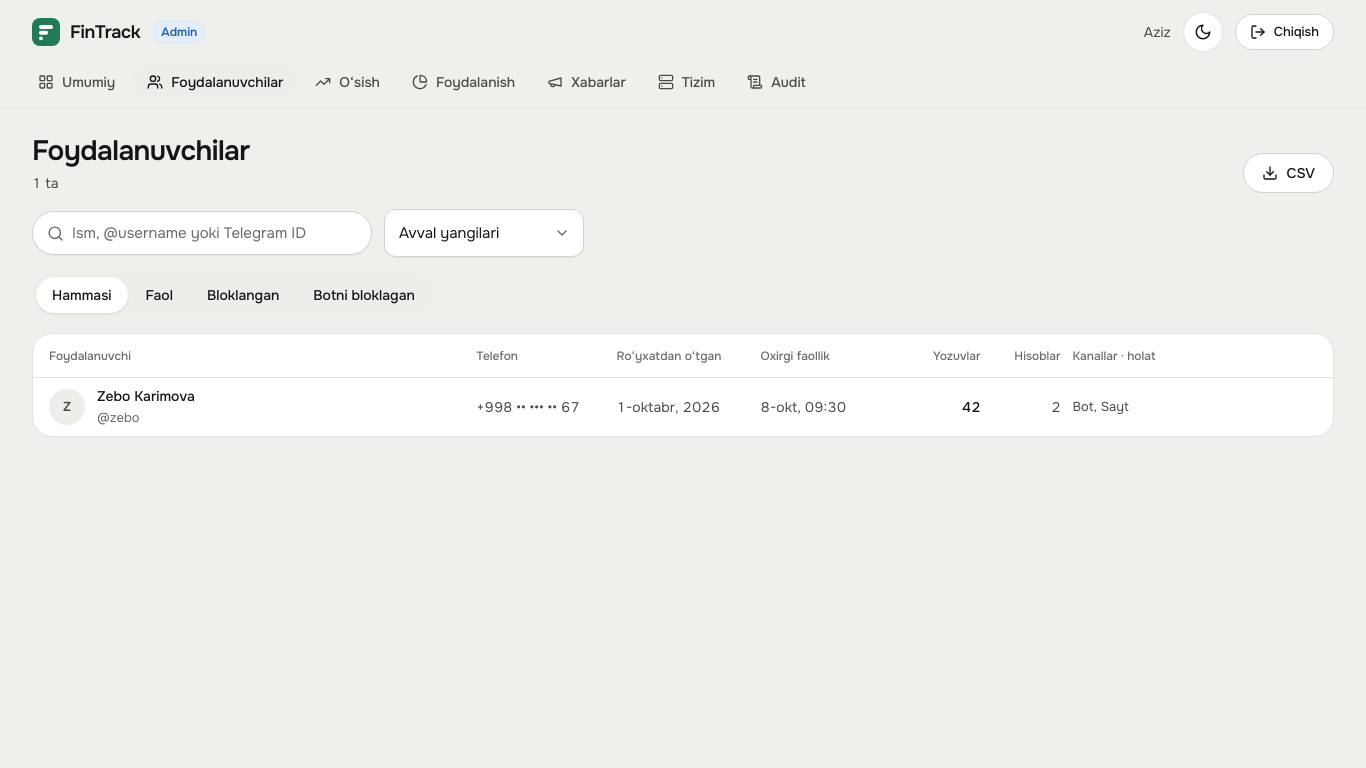
Test: Admin panel pages › users: a card opened while the search is still settling stays open
Check: the table is shown, box [33,334,1333,436]
Type "zebo" into the search field named "Foydalanuvchini qidirish" at (218, 233), box [72,212,365,254]
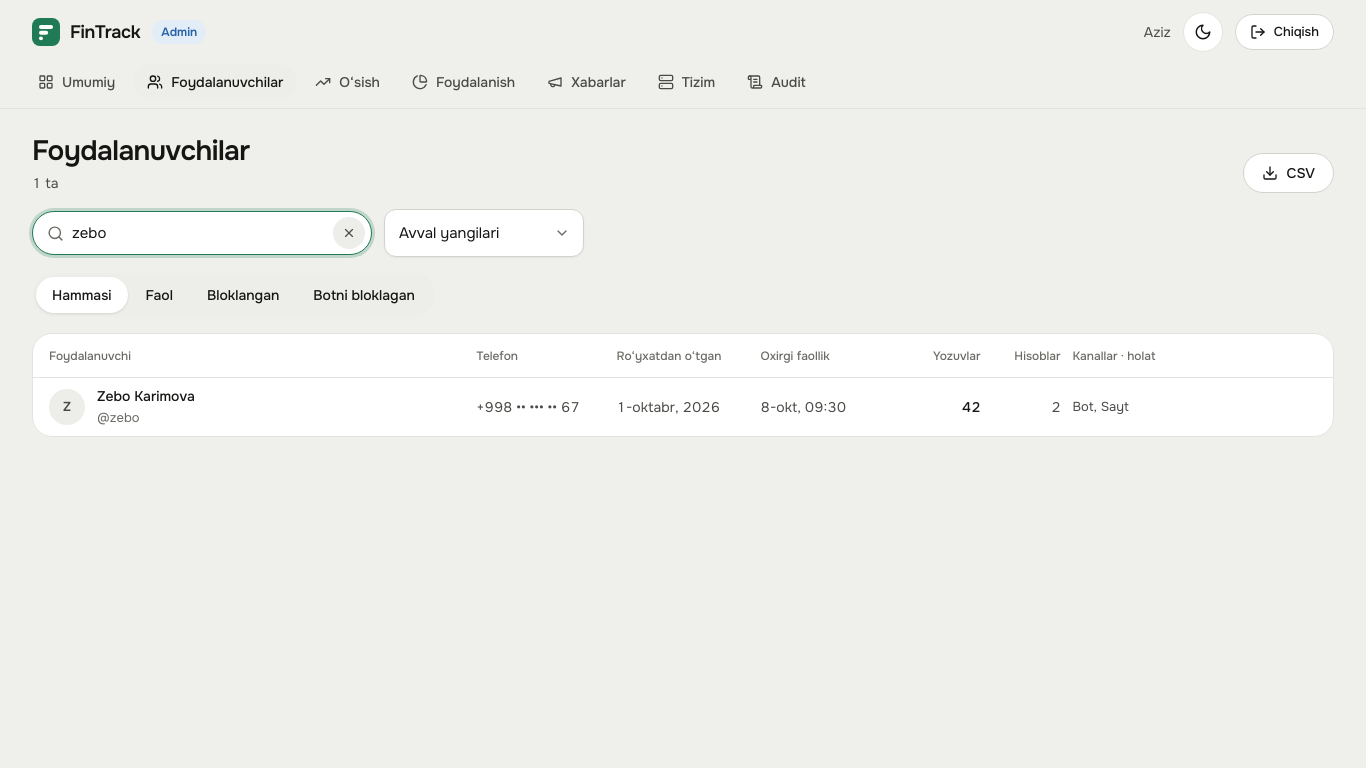
Click the text "Zebo Karimova" at (146, 396), box [97,385,195,407]
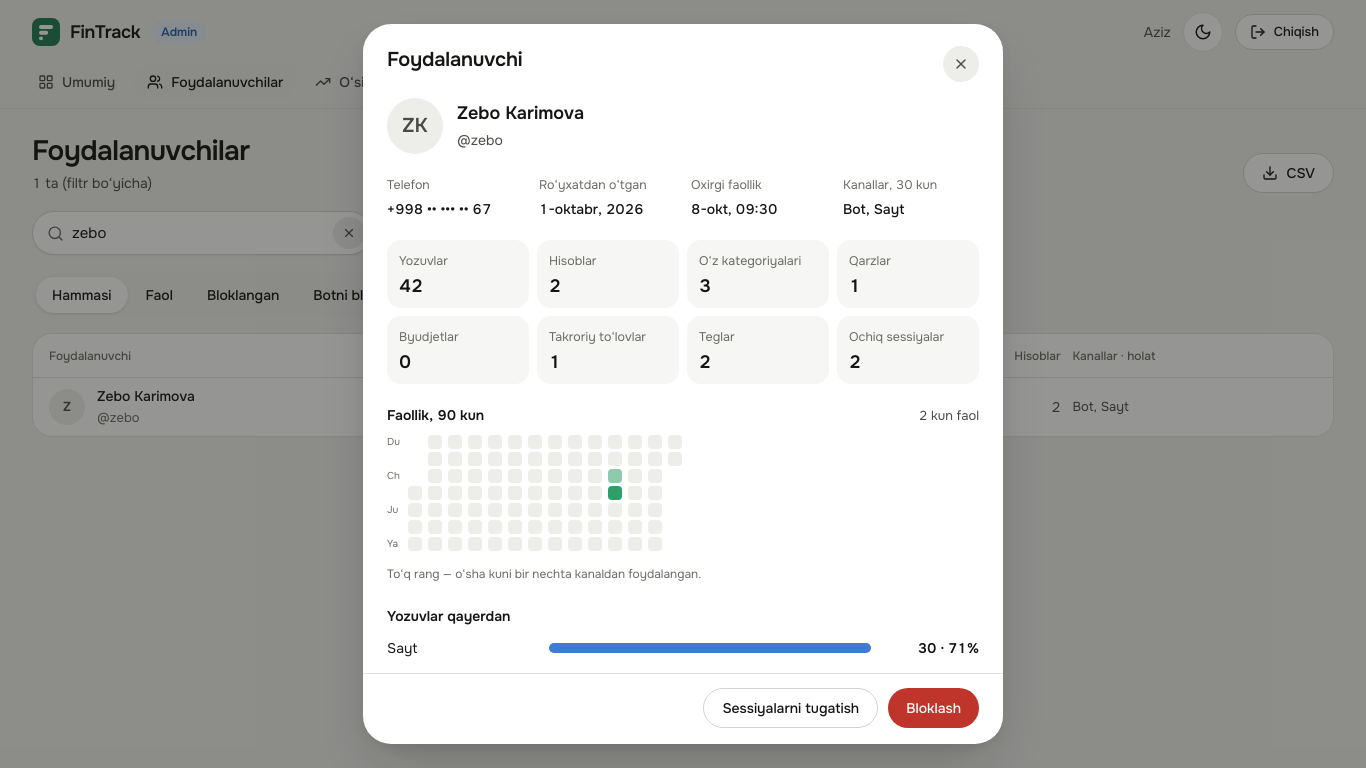
Check: the dialog "Foydalanuvchi" is shown, box [363,24,1003,744]
